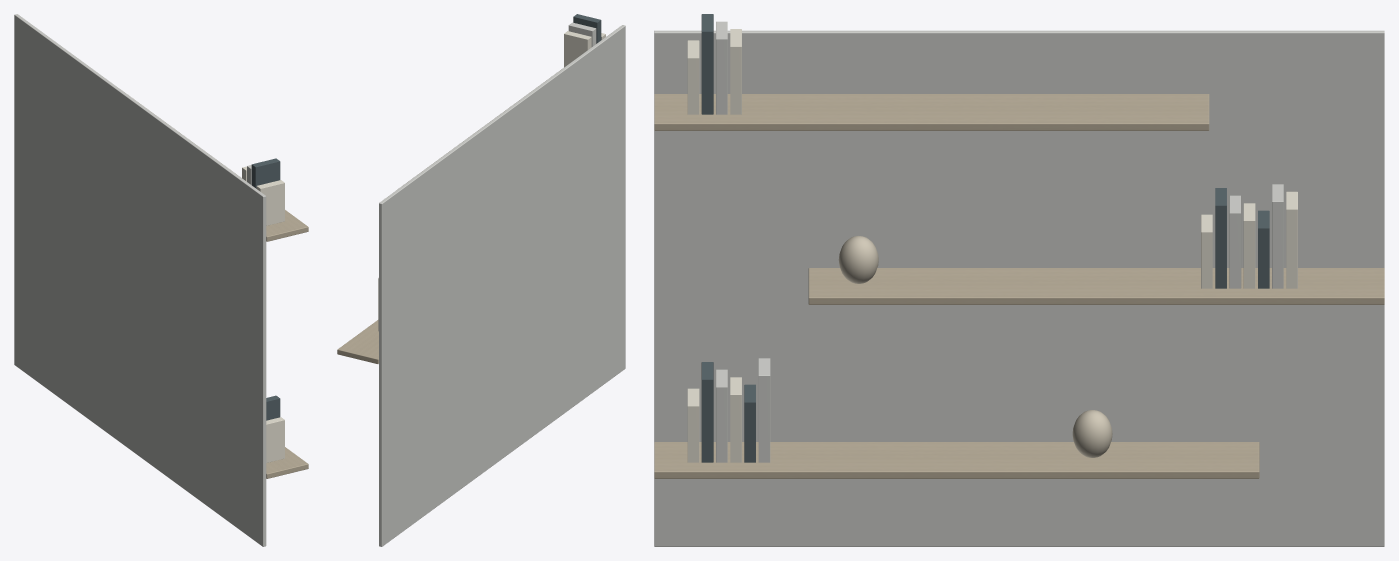
Rendered from head-floating.glb.
3 views of the same model, side by side, from view 1: azimuth 30°, elevation 25°; view 2: azimuth 150°, elevation 25°; view 3: azimuth 270°, elevation 25° (orthographic). The views are drawn at different scales.
Parts seen in each view (by area): view 1: Quiet inset display field, Display book.013, Display book, Thin floating display shelf.002, Thin floating display shelf, Display book.014; view 2: Quiet inset display field, Thin floating display shelf.001, Display book.016, Display book.014; view 3: Quiet inset display field, Thin floating display shelf, Thin floating display shelf.002, Thin floating display shelf.001, Small ceramic object, Small ceramic object.001, Display book.005, Display book.001, Display book.014, Display book.011, Display book.008, Display book.007 (+11 smaller).
Boxes of the visible parts, x1=… form: Quiet inset display field: x1=14, y1=14, x2=266, y2=546; Display book.013: x1=256, y1=180, x2=284, y2=225; Display book: x1=266, y1=417, x2=284, y2=462; Thin floating display shelf.002: x1=133, y1=98, x2=308, y2=241; Thin floating display shelf: x1=266, y1=447, x2=308, y2=478; Display book.014: x1=251, y1=158, x2=280, y2=188; Quiet inset display field: x1=379, y1=25, x2=625, y2=546; Thin floating display shelf.001: x1=337, y1=320, x2=378, y2=363; Display book.016: x1=564, y1=31, x2=591, y2=67; Display book.014: x1=573, y1=14, x2=601, y2=43; Quiet inset display field: x1=654, y1=30, x2=1384, y2=546; Thin floating display shelf: x1=654, y1=442, x2=1259, y2=478; Thin floating display shelf.002: x1=654, y1=94, x2=1209, y2=130; Thin floating display shelf.001: x1=808, y1=268, x2=1384, y2=304; Small ceramic object: x1=1072, y1=410, x2=1112, y2=457; Small ceramic object.001: x1=838, y1=236, x2=878, y2=283; Display book.005: x1=758, y1=358, x2=770, y2=462; Display book.001: x1=701, y1=362, x2=713, y2=462; Display book.014: x1=701, y1=14, x2=713, y2=114; Display book.011: x1=1272, y1=184, x2=1283, y2=288; Display book.008: x1=1229, y1=195, x2=1241, y2=288; Display book.007: x1=1215, y1=188, x2=1226, y2=288.
Size of the model in its own units: 0.186 by 1.42 by 1.75.
Materials: 6 (1 with a texture image).
